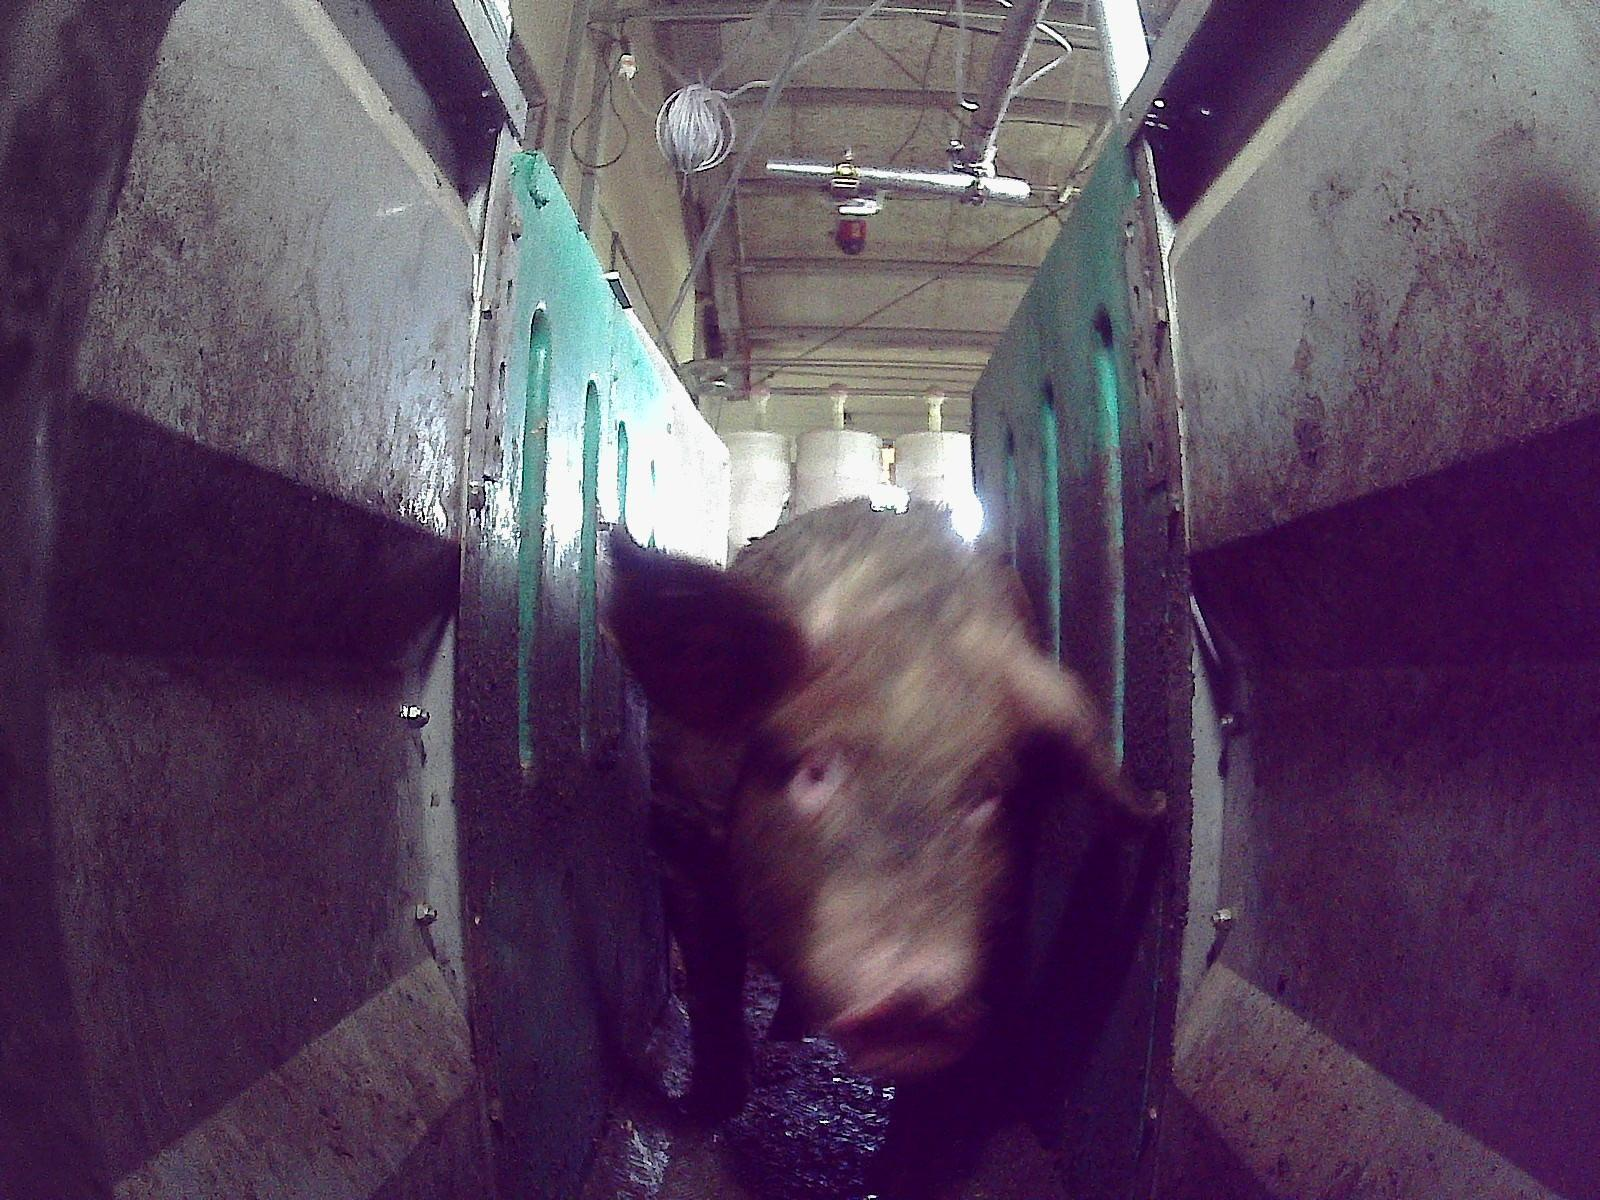Face: (739, 627, 1010, 1078)
